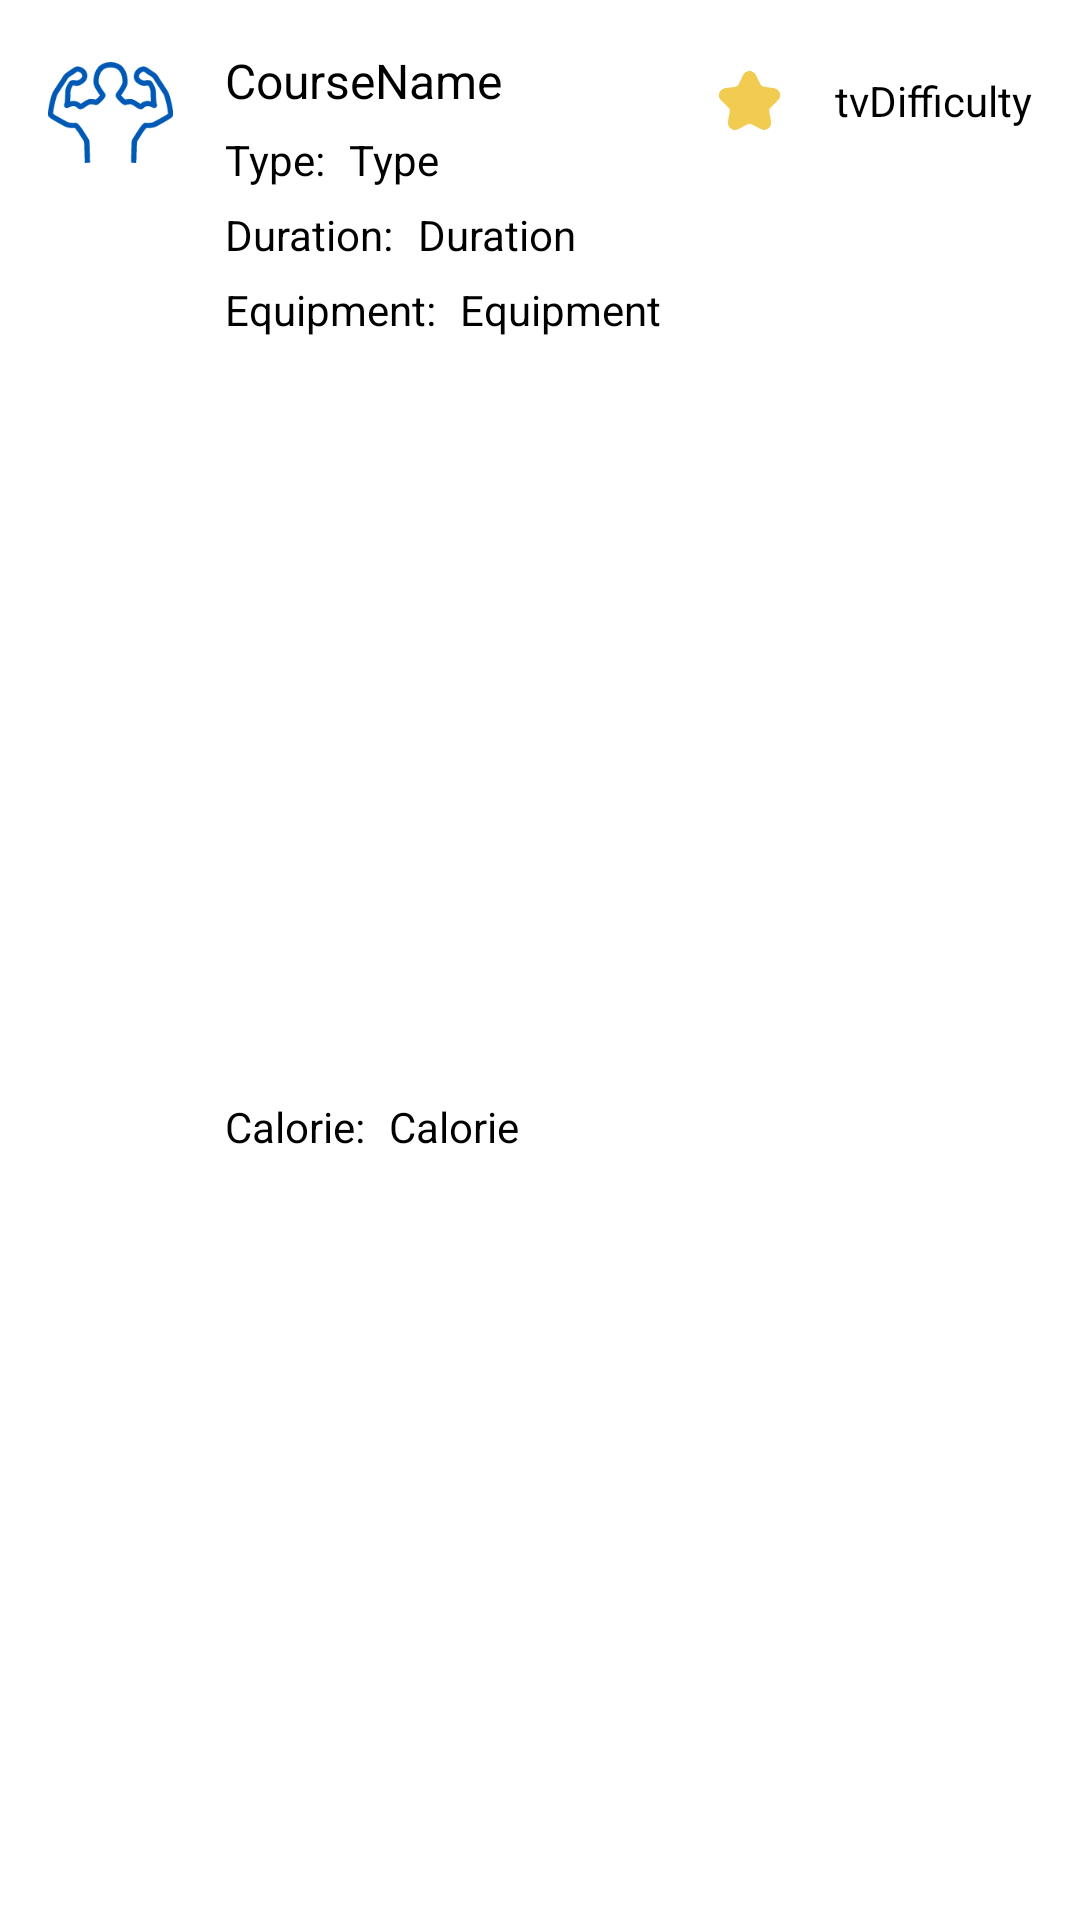

Where to tap for icons on this 1080 x 1920 app screen, as [x,y]:
fitness: [110,112]
star: [749,100]
